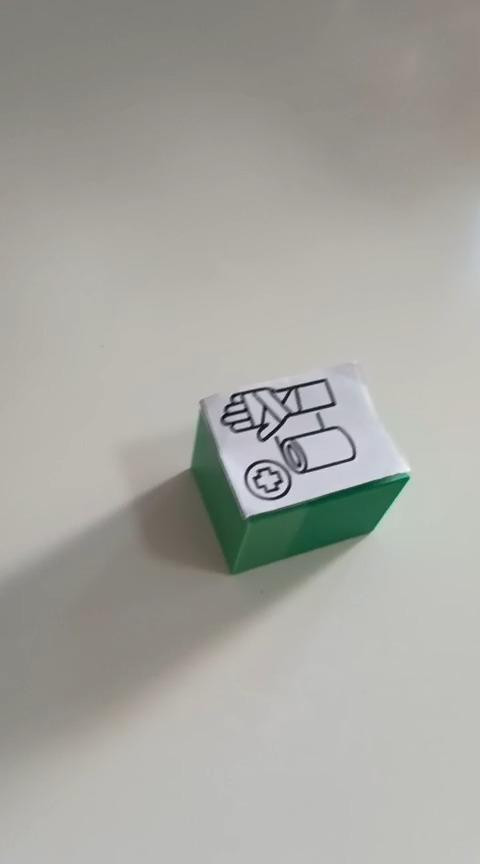Bandages: (189, 359, 411, 574)
